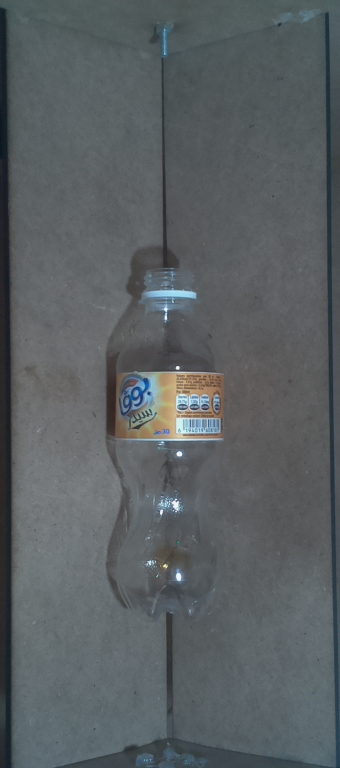Bouteille_0.3L: (100, 258, 239, 629)
